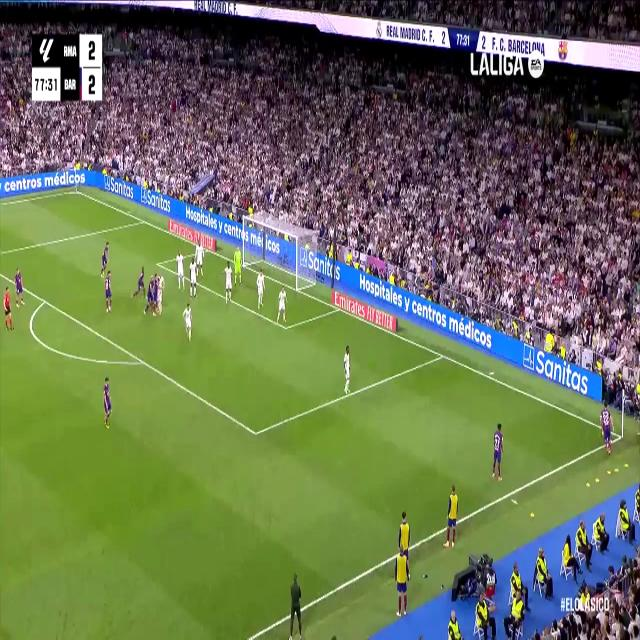bigarea_bottom_inner: (250, 419, 261, 445)
bigarea_bottom_outter: (438, 348, 446, 362)
bottom_arc_area_intersection: (137, 351, 147, 371)
corner: (72, 186, 80, 196)
smallarea_bottom_inner: (282, 318, 289, 336)
smallarea_top_inner: (155, 257, 161, 269)
top_arc_area_intersection: (41, 292, 49, 308)
